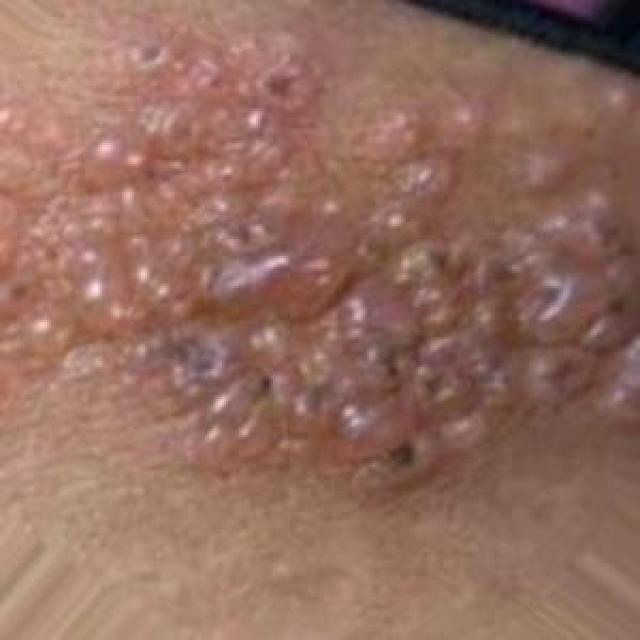Shingles: (0, 34, 640, 503)
